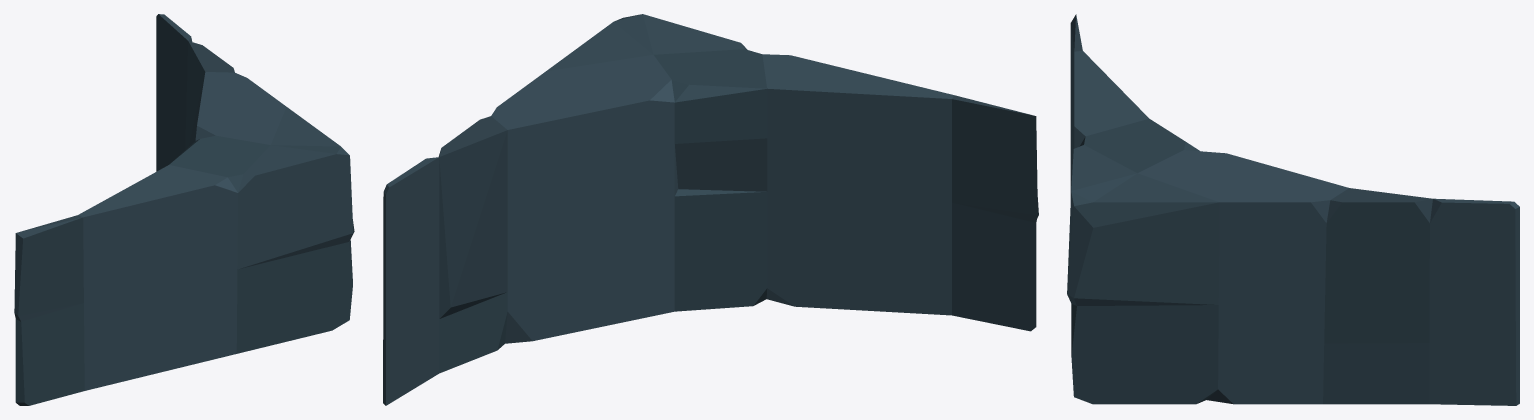
File: level_element_round_corner_2x4x4_conc.fbx
3 renders of one model, left to right at view 1: azimuth 30°, elevation 25°; view 2: azimuth 150°, elevation 25°; view 3: azimuth 270°, elevation 25°, orthographic. The views are drawn at different scales.
Parts seen in each view (by area): view 1: level_element_round_corner_2x4x4_conc; view 2: level_element_round_corner_2x4x4_conc; view 3: level_element_round_corner_2x4x4_conc.
Boxes of the visible parts, x1=… form: level_element_round_corner_2x4x4_conc: x1=14, y1=14, x2=354, y2=405; level_element_round_corner_2x4x4_conc: x1=383, y1=14, x2=1038, y2=405; level_element_round_corner_2x4x4_conc: x1=1067, y1=14, x2=1519, y2=405.
Size of the model in its own units: 408 by 204 by 407.
